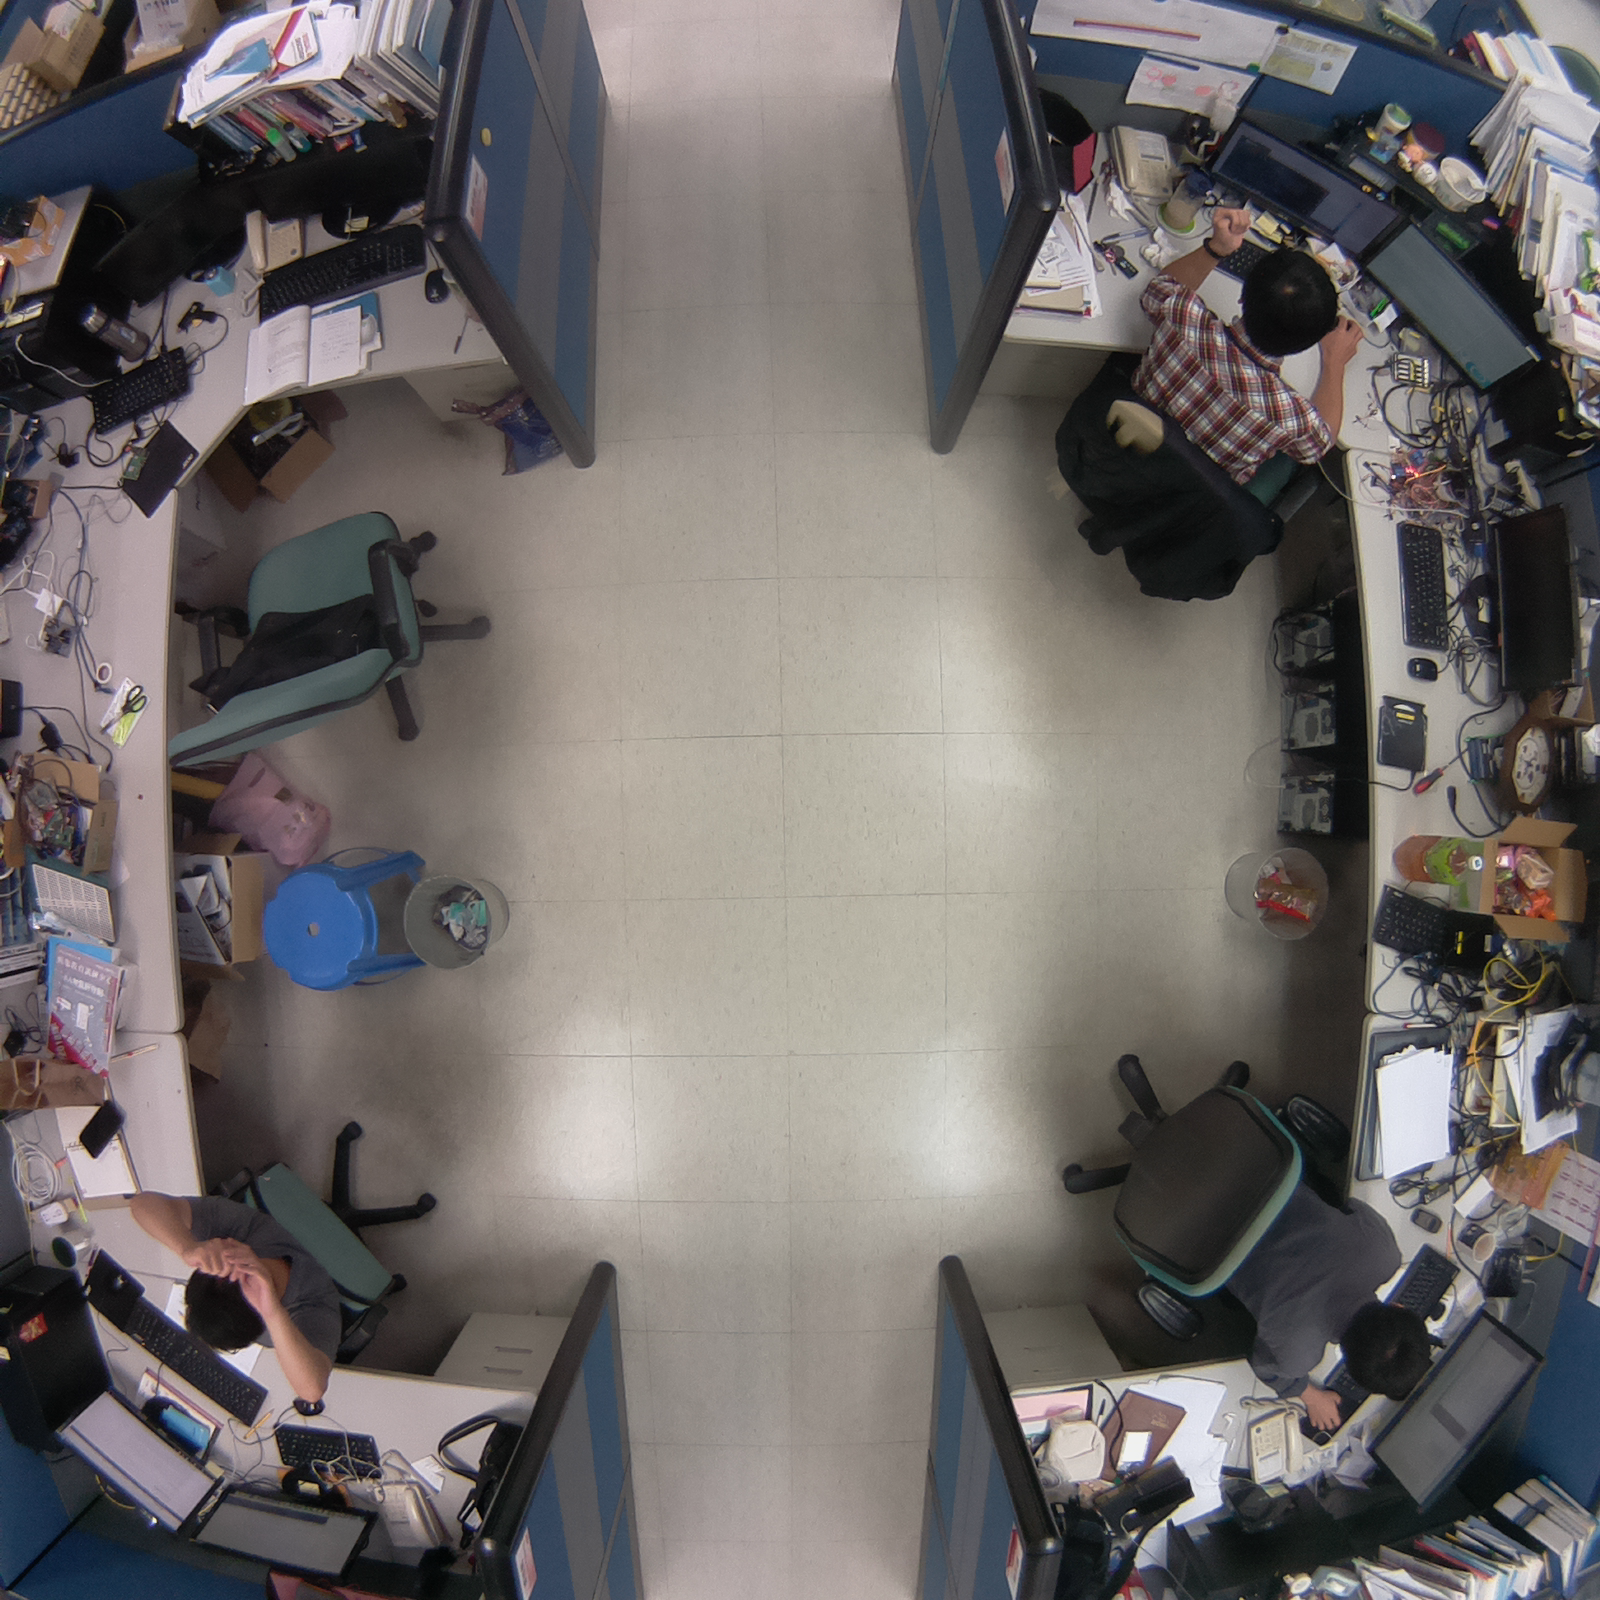chair: (153, 491, 509, 783)
head: (1239, 240, 1343, 357), (1333, 1299, 1445, 1405), (176, 1259, 289, 1359)
sitting: (1047, 1034, 1447, 1438), (1032, 212, 1365, 619), (107, 1104, 450, 1415)
